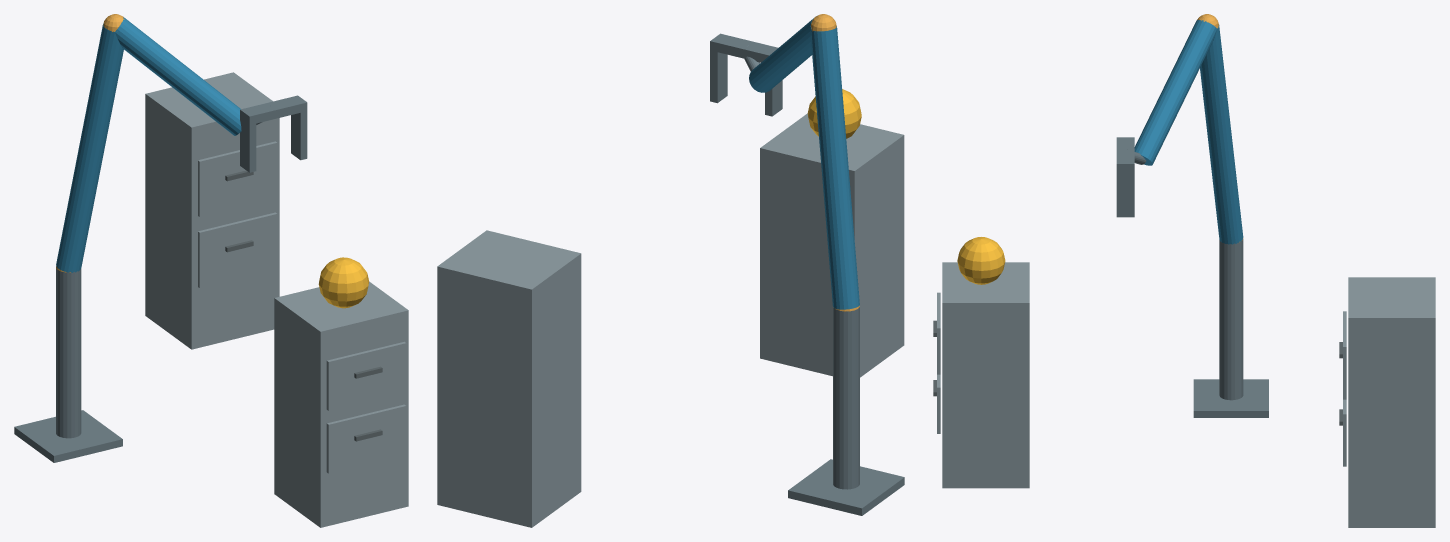
3 views of the same model, side by side, from view 1: azimuth 30°, elevation 25°; view 2: azimuth 150°, elevation 25°; view 3: azimuth 270°, elevation 25° (orthographic). The views are drawn at different scales.
Visible parts, largest first — view 1: cabinet_2 body, cabinet_1 body, moving link 1, cabinet_2 drawer front, fixed post, cabinet_2 drawer front.001, cabinet_1 drawer front.001, cabinet_1 drawer front, moving link 2, pedestal, ball ball_1, gripper bridge (+2 smaller); view 2: cabinet_2 body, cabinet_1 body, moving link 1, fixed post, pedestal, moving link 2, gripper bridge, ball ball_1, gripper finger 1; view 3: cabinet_2 body, cabinet_1 body, moving link 1, fixed post, moving link 2, pedestal, ball ball_1, gripper finger 1, gripper bridge.
Part boxes in pixels (x1,y1,x2,y2): cabinet_2 body: (145,72,279,349); cabinet_1 body: (274,281,408,527); moving link 1: (56,23,123,272); cabinet_2 drawer front: (198,212,277,287); fixed post: (56,268,81,438); cabinet_2 drawer front.001: (198,141,277,216); cabinet_1 drawer front.001: (326,341,406,410); cabinet_1 drawer front: (326,404,406,473); moving link 2: (115,17,241,135); pedestal: (14,410,122,462); ball ball_1: (318,257,369,308); gripper bridge: (240,95,307,124); cabinet_2 body: (437,230,581,527); cabinet_1 body: (760,113,904,377); moving link 1: (810,26,859,309); fixed post: (833,307,859,489); pedestal: (788,459,904,515); moving link 2: (749,18,813,92); gripper bridge: (710,33,778,62); ball ball_1: (807,89,861,138); gripper finger 1: (710,50,727,103); cabinet_2 body: (1348,277,1435,527); cabinet_1 body: (942,262,1029,488); moving link 1: (1200,25,1243,244); fixed post: (1219,239,1243,400); moving link 2: (1134,20,1216,165); pedestal: (1193,379,1268,417); ball ball_1: (957,237,1005,284); gripper finger 1: (1116,172,1134,217); gripper bridge: (1116,137,1134,172).
Size of the model in its own units: 1.12 by 1.48 by 1.67.
